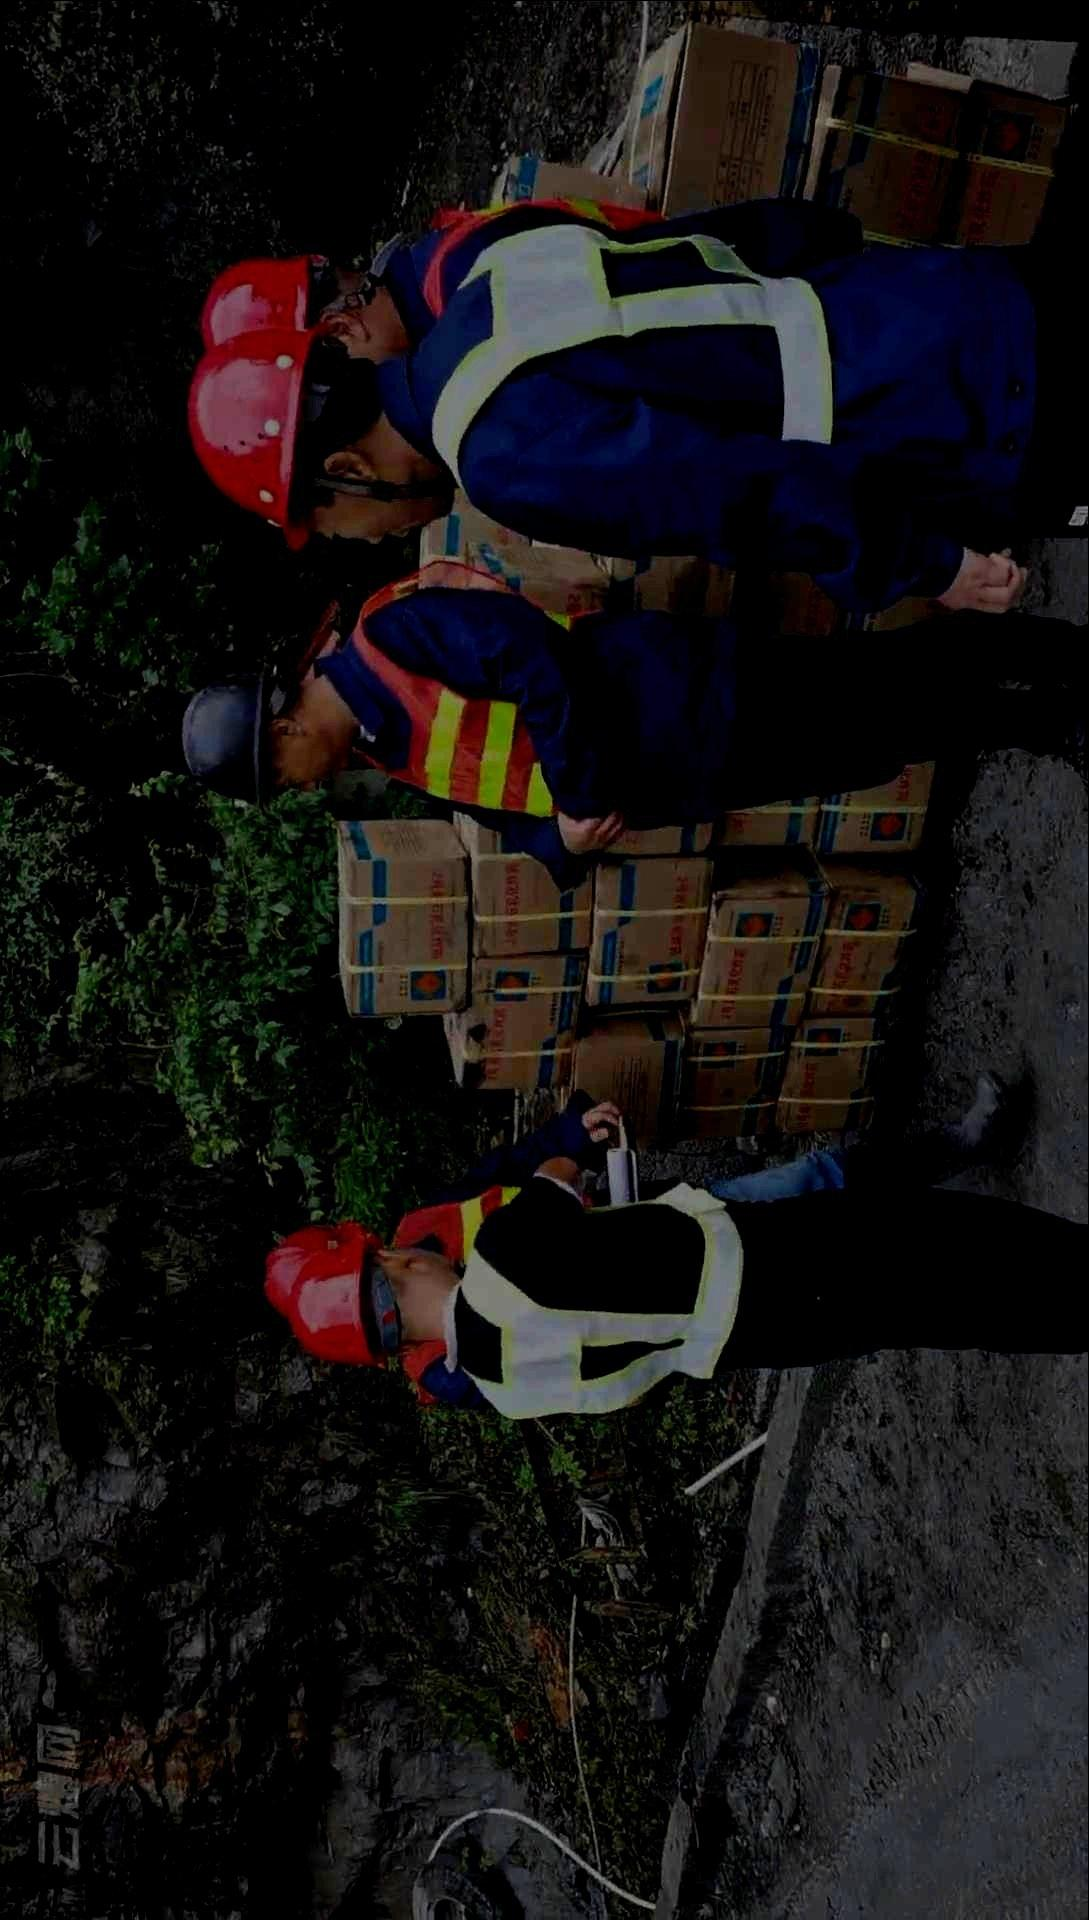helmet: (186, 320, 455, 553), (196, 255, 409, 365), (286, 1230, 454, 1367), (181, 661, 334, 810), (262, 1218, 382, 1319)
